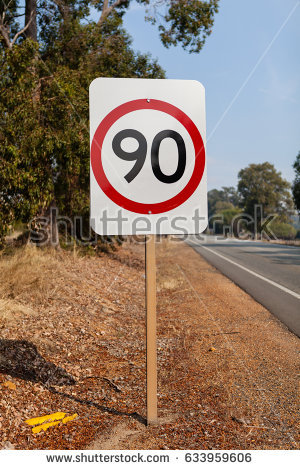Speed_limit_90km: (90, 99, 208, 215)
